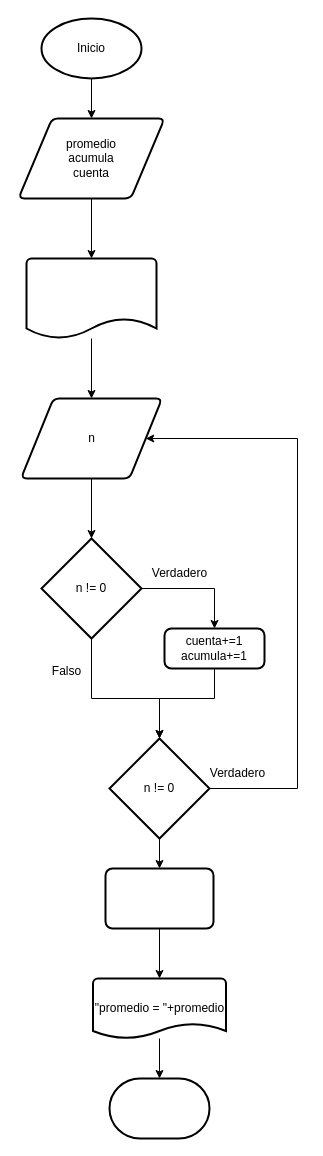
The diagram is 323 pixels wide and 1156 high, and some of its shapes have lost their labels. The shapes that lost their labels are listed below. From the top down, each one's centre as x and y in pixels, then its label:
(x=91, y=298): Añada varios valores, para terminar use 0
(x=159, y=898): promedio = acumula / cuenta
(x=159, y=1108): Fin
